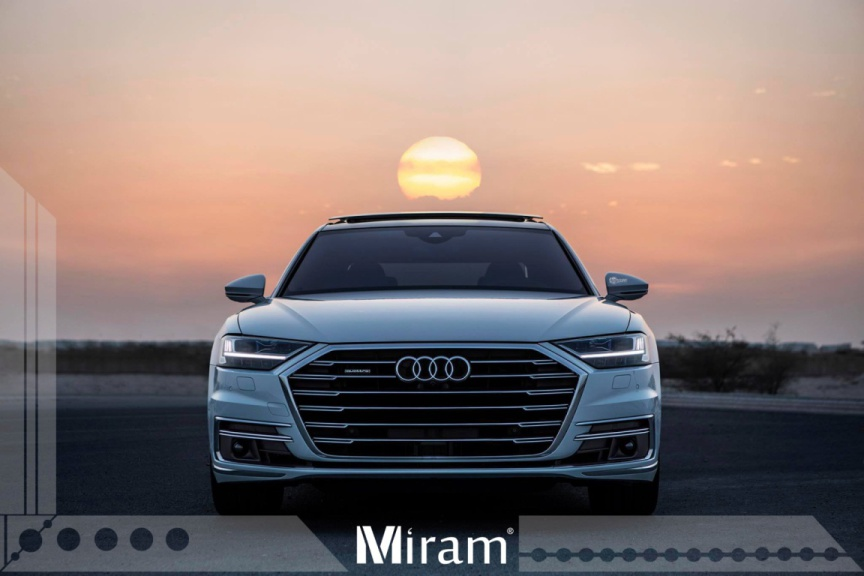audi: (388, 350, 479, 392)
